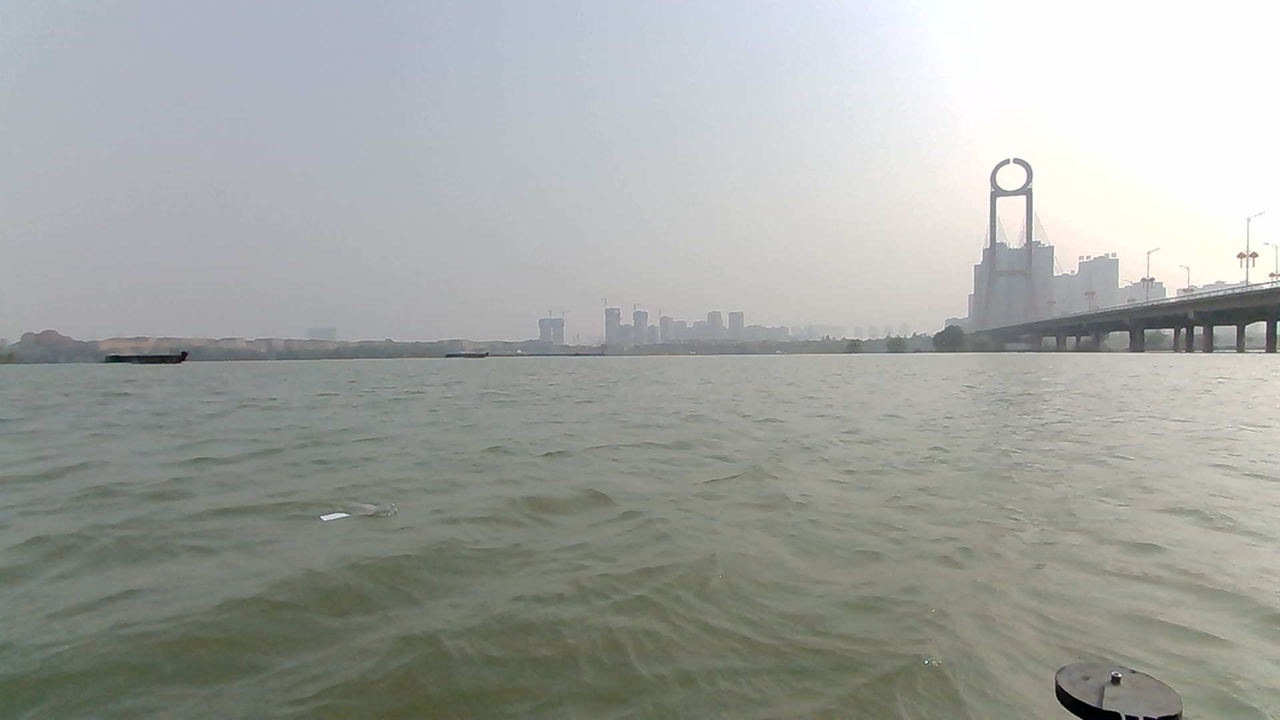bottle: (259, 501, 402, 562)
